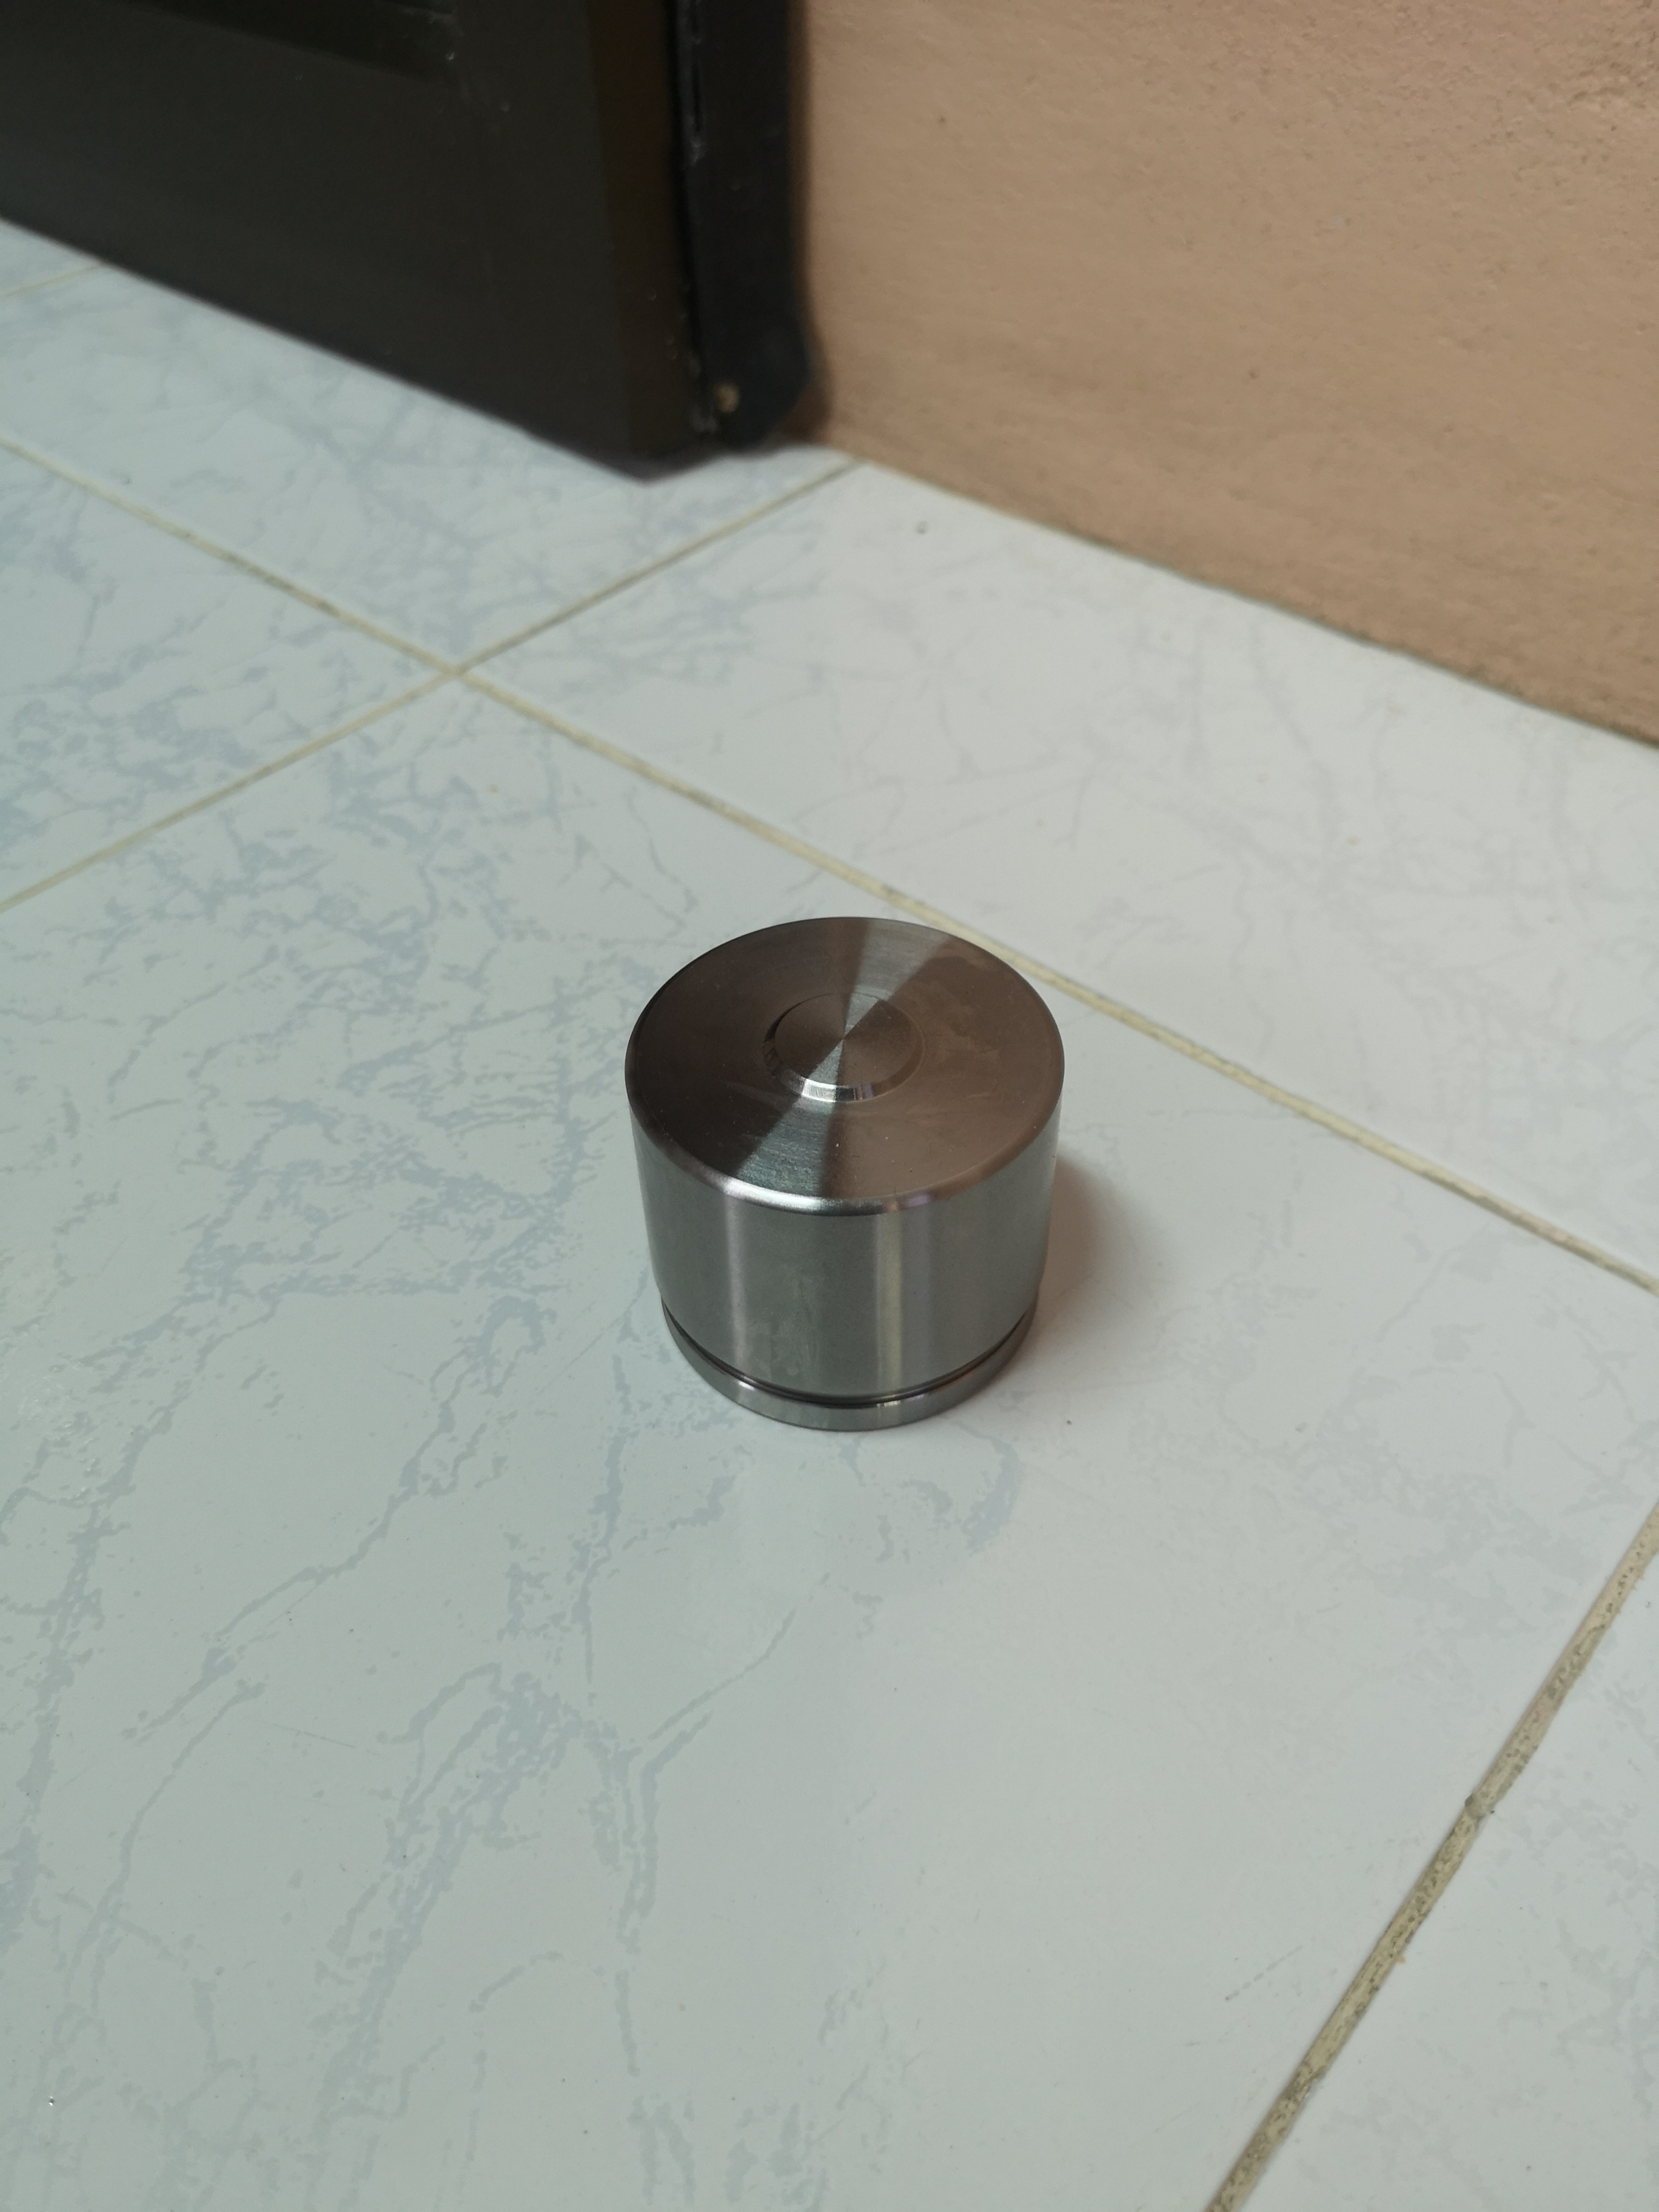ลูกสูบดิสเบรค: (573, 909, 1075, 1404)
